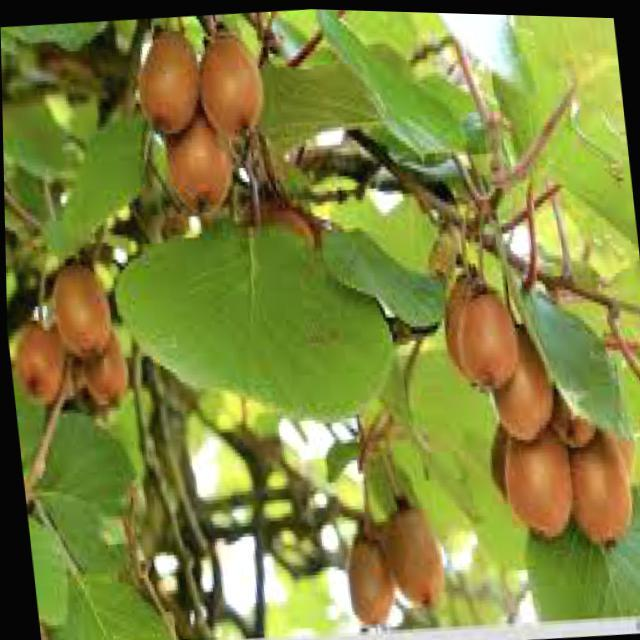kiwi: (501, 426, 576, 545), (189, 24, 265, 136), (569, 426, 636, 541), (481, 339, 562, 434), (157, 131, 236, 216), (336, 512, 394, 625), (457, 293, 520, 389), (12, 312, 69, 411), (134, 51, 200, 114), (380, 548, 449, 573), (46, 299, 110, 323)
